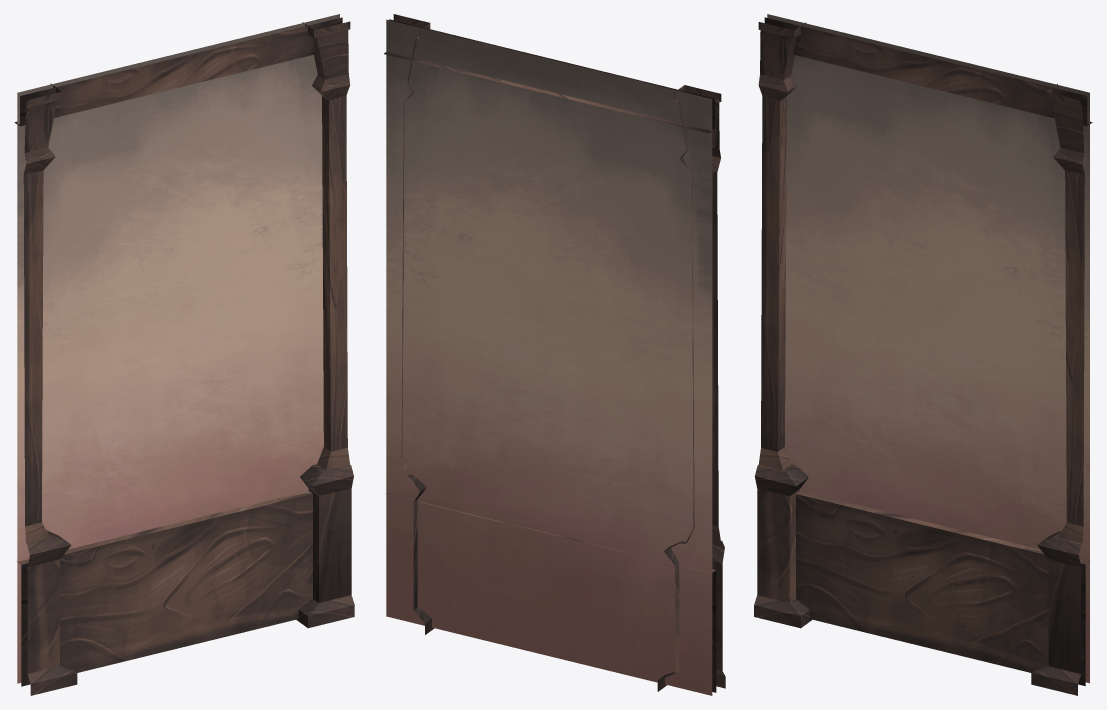
The model's file is Wall_Full_Straight_LOD1.fbx.
3 renders of one model, left to right at view 1: azimuth 30°, elevation 25°; view 2: azimuth 150°, elevation 25°; view 3: azimuth 330°, elevation 25°, orthographic.
Visible parts, largest first — view 1: Straight_Wall_LOD1; view 2: Straight_Wall_LOD1; view 3: Straight_Wall_LOD1.
Part boxes in pixels (x1,y1,x2,y2): Straight_Wall_LOD1: (14,14,354,695); Straight_Wall_LOD1: (384,14,725,695); Straight_Wall_LOD1: (754,14,1092,695).
Size of the model in its own units: 0.0241 by 0.0422 by 0.00265.
